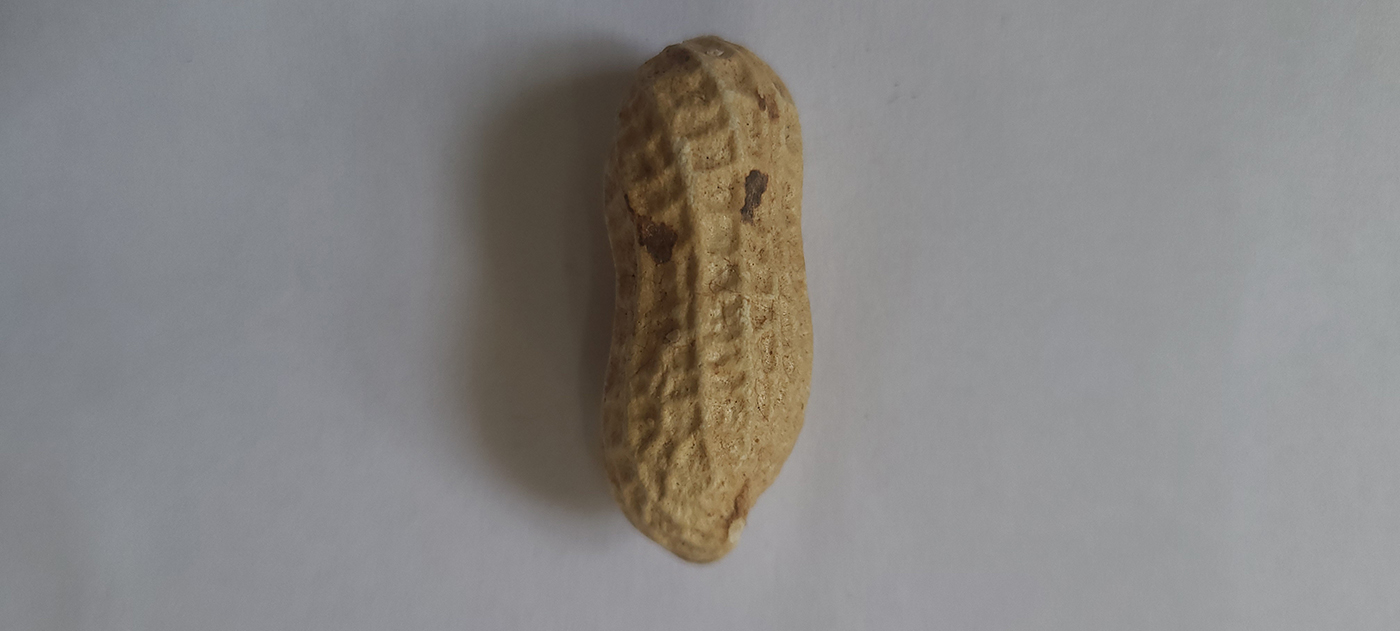h: (596, 35, 817, 568)
